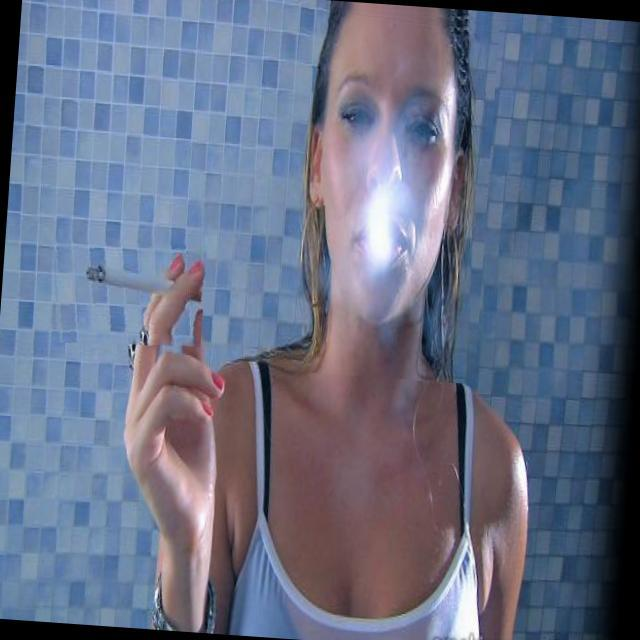cigarette: (45, 235, 207, 352)
